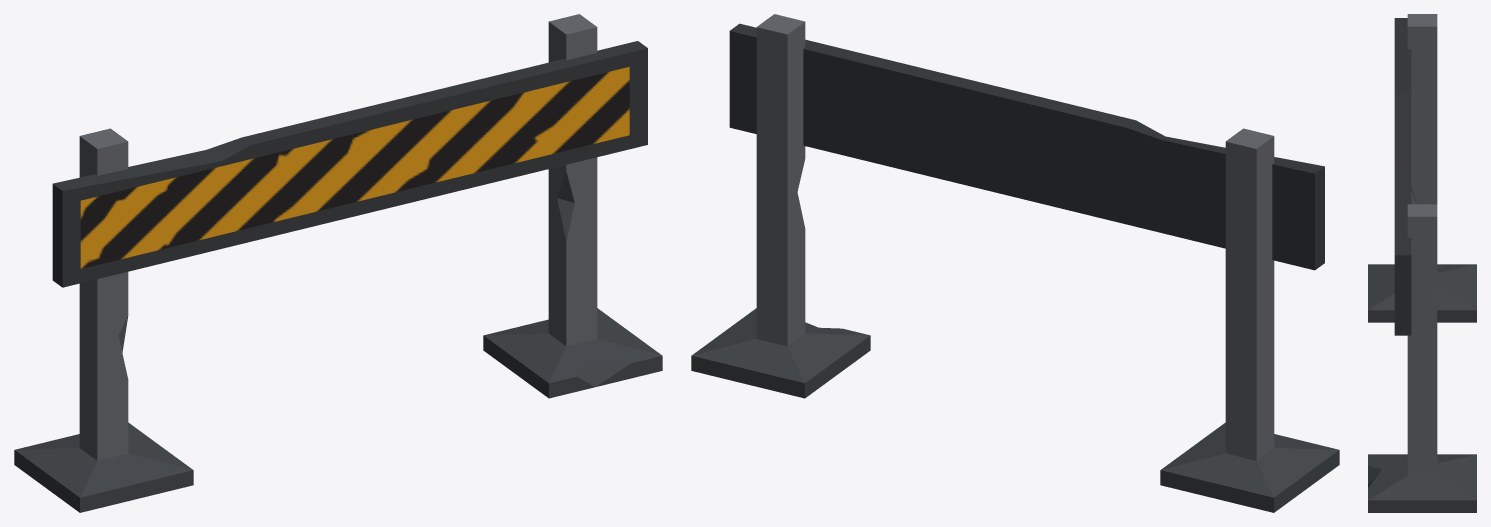
File: SM_Prop_Barrier_01.glb
3 renders of one model, left to right at view 1: azimuth 30°, elevation 25°; view 2: azimuth 150°, elevation 25°; view 3: azimuth 270°, elevation 25°, orthographic. The views are drawn at different scales.
Parts seen in each view (by area): view 1: SM_Prop_Barrier_01; view 2: SM_Prop_Barrier_01; view 3: SM_Prop_Barrier_01.
Boxes of the visible parts, left/top/right/bottom form: SM_Prop_Barrier_01: left=14, top=14, right=662, bottom=512; SM_Prop_Barrier_01: left=691, top=14, right=1339, bottom=512; SM_Prop_Barrier_01: left=1368, top=14, right=1476, bottom=512.
Size of the model in its own units: 1.98 by 1.09 by 0.3842.
Materials: 1 (1 with a texture image).
